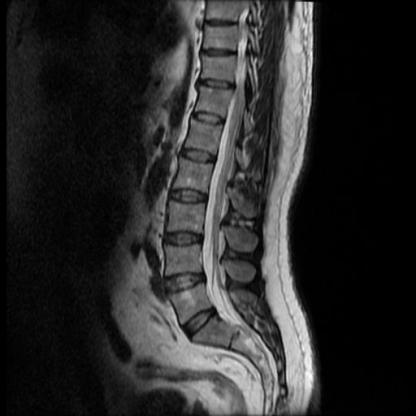Disc Bulgerotation: (180, 309, 222, 333)
Disc Relaxationrotation: (159, 183, 211, 296), (180, 308, 221, 332)
